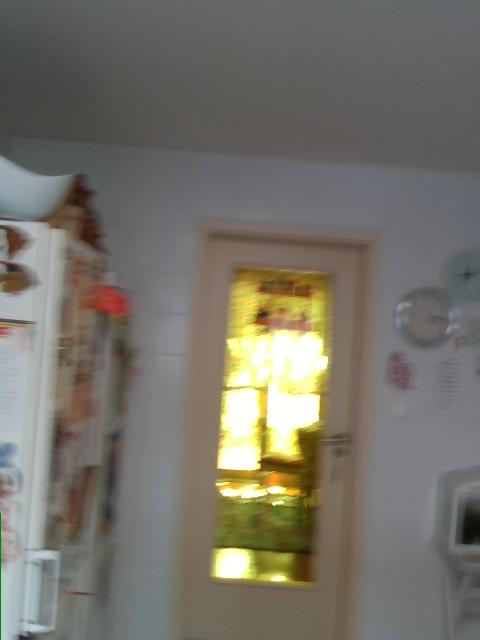door: (195, 237, 362, 638)
